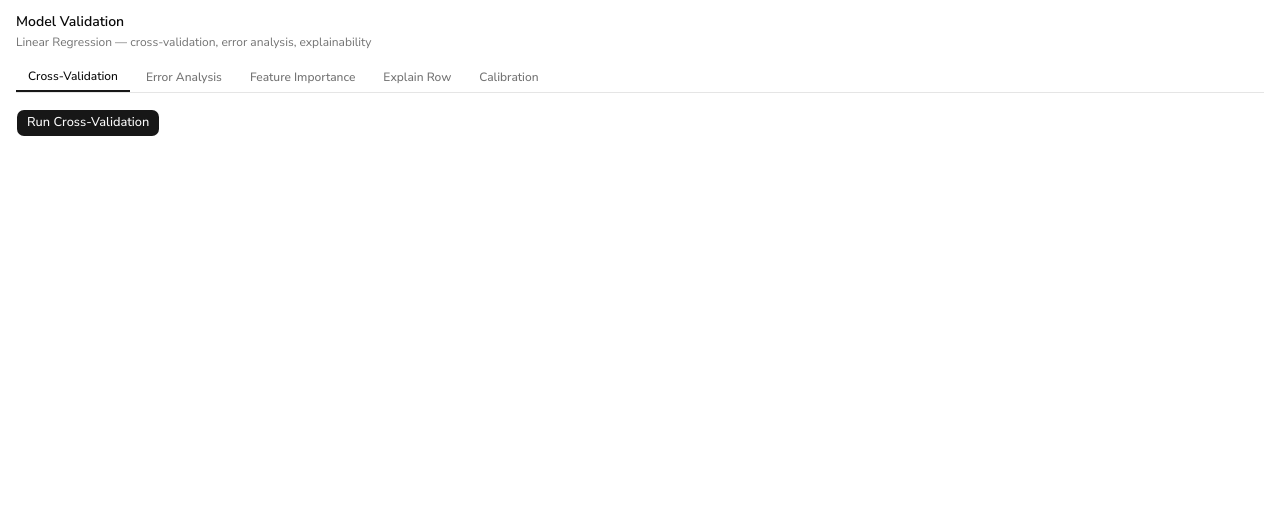
Scenario: ValidationPanel — confidence badge › shows LOW confidence badge
Click the tab "Cross-Validation" at [73, 77], box [16,62,130,92]
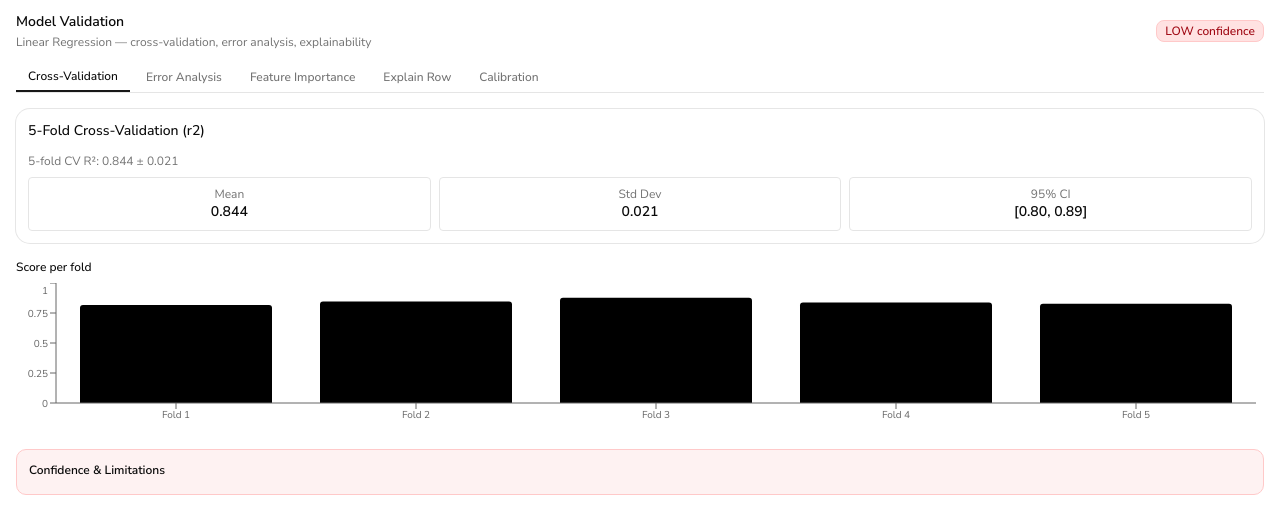
Expected: the text "LOW confidence" is shown, [1156,20,1264,42]
